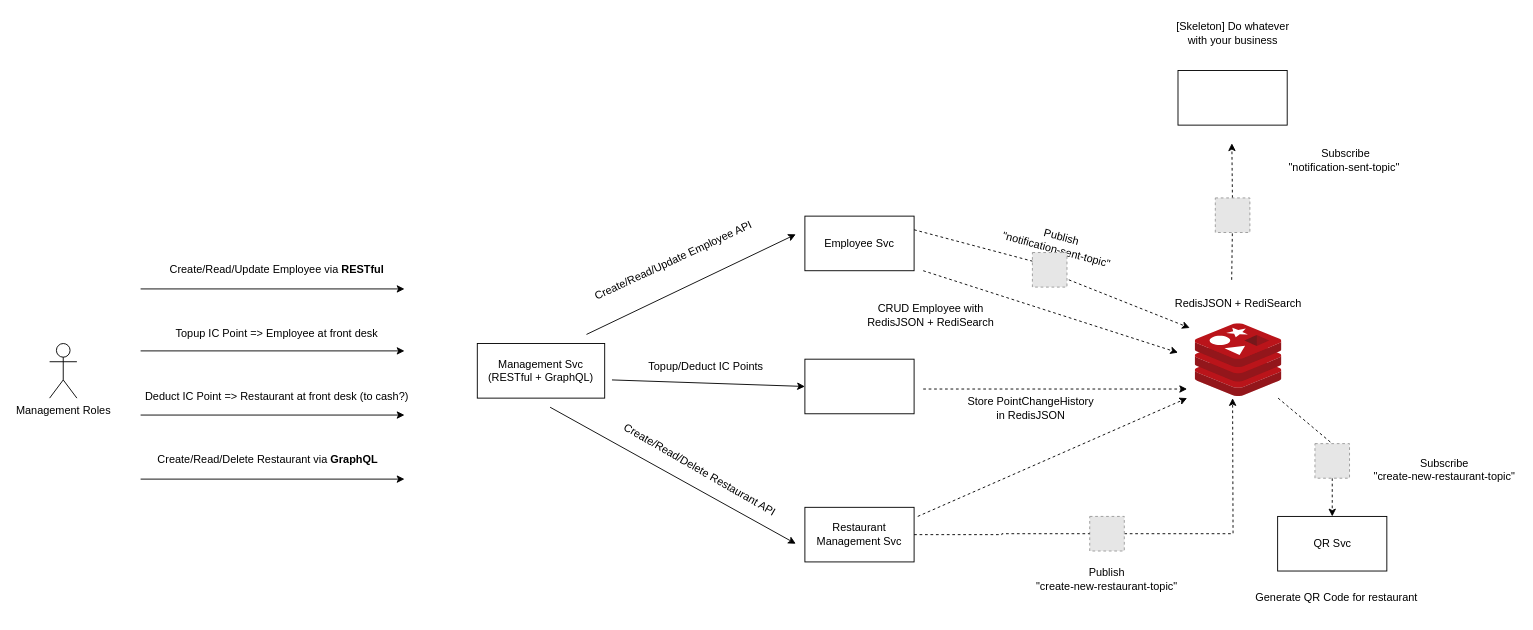
The diagram is 1533 pixels wide and 630 high, and some of its shapes have lost their labels. Grey dashed boxes stand in for pictures. The shapes that lost their labels are listed below. From the top down, each one's centre as x and y in pixels, then its label:
At (1232,97): "Notification Svc".
At (859,386): "Point Svc".
